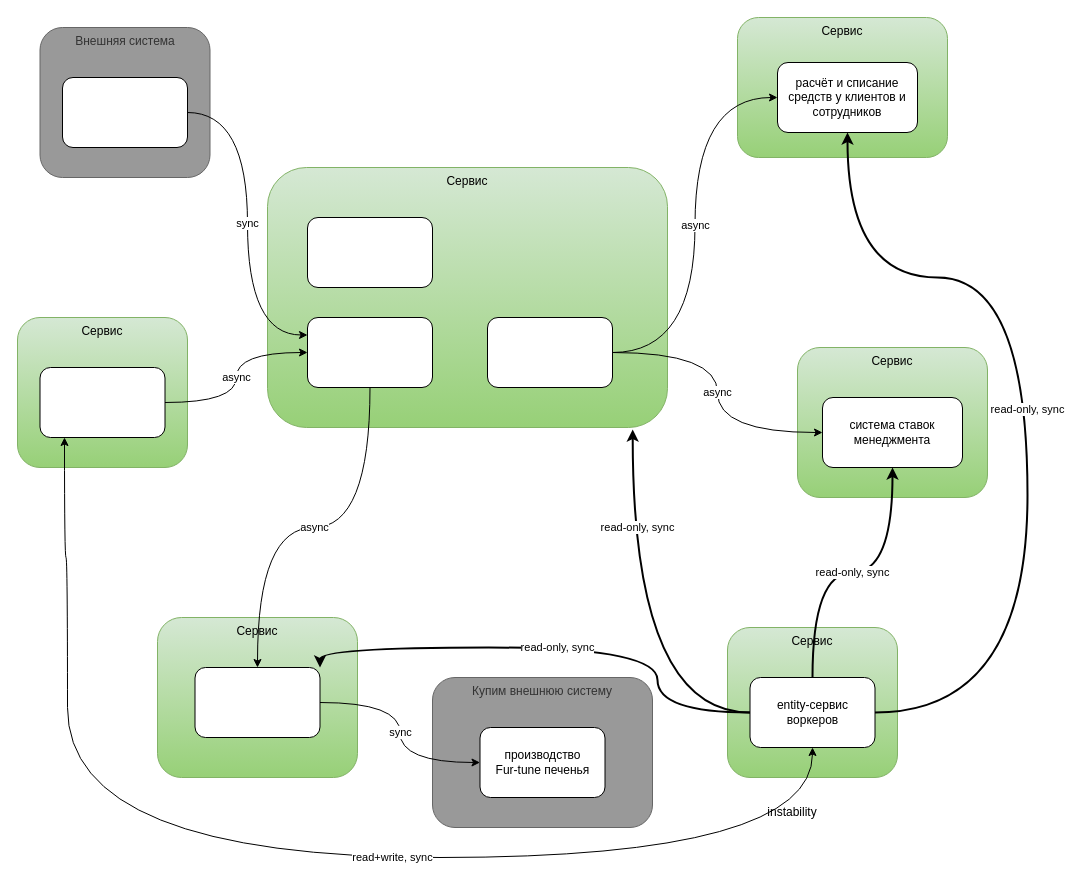
The diagram is 1082 pixels wide and 881 high, and some of its shapes have lost their labels. Each missing label, with the centre of its shape:
happy cat box: pixel 125 112
контроль качества работы сотрудников: pixel 549 352
матчинг сотрудников и клиентов: pixel 369 252
планирование визитов: pixel 369 352
сборка необходимых расходников для заказа: pixel 257 702
скоринг работников перед тем, как добавить их в систему как воркеров: pixel 102 402
